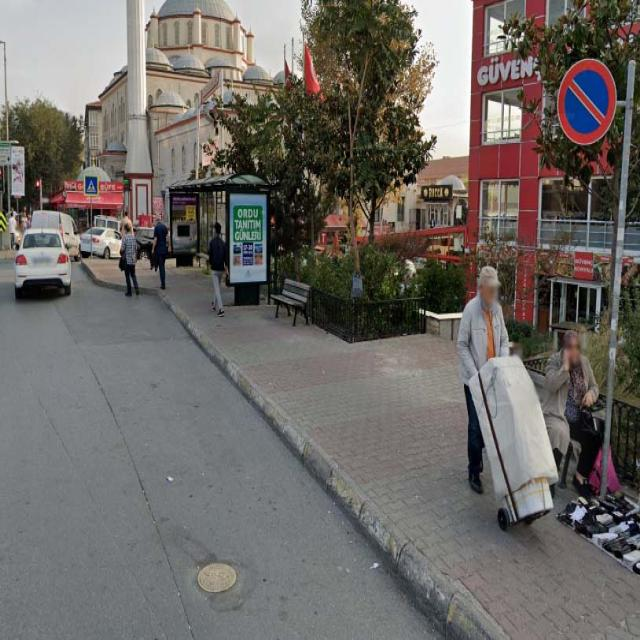parkyasak: (556, 58, 616, 144)
